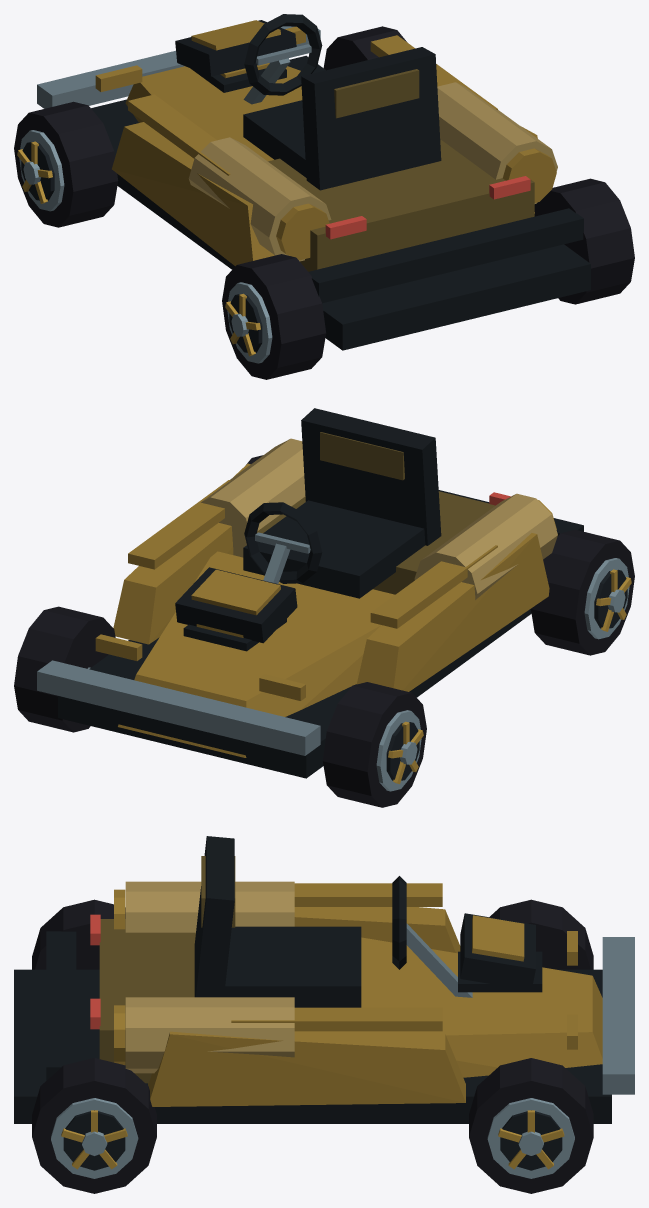
File: kart.glb
3 views of the same model, one above another, from view 1: azimuth 30°, elevation 25°; view 2: azimuth 150°, elevation 25°; view 3: azimuth 270°, elevation 25° (orthographic). The views are drawn at different scales.
Parts seen in each view (by area): view 1: chassis, wheel-rear-left, wheel-front-left, wheel-rear-right, wheel-front-right; view 2: chassis, wheel-front-left, wheel-rear-left, wheel-front-right; view 3: chassis, wheel-front-right, wheel-rear-right, wheel-front-left, wheel-rear-left.
Boxes of the visible parts, <box> form: chassis: <box>37,14,590,350</box>; wheel-rear-left: <box>222,254,326,379</box>; wheel-front-left: <box>14,101,118,227</box>; wheel-rear-right: <box>534,178,634,304</box>; wheel-front-right: <box>323,26,407,70</box>; chassis: <box>37,408,583,778</box>; wheel-front-left: <box>322,682,426,807</box>; wheel-rear-left: <box>531,529,634,655</box>; wheel-front-right: <box>14,606,115,732</box>; chassis: <box>14,836,634,1123</box>; wheel-front-right: <box>469,1058,593,1193</box>; wheel-rear-right: <box>32,1058,156,1193</box>; wheel-front-left: <box>489,899,593,969</box>; wheel-rear-left: <box>32,899,125,969</box>.
Size of the model in its own units: 2.3 by 1.3 by 3.09.
